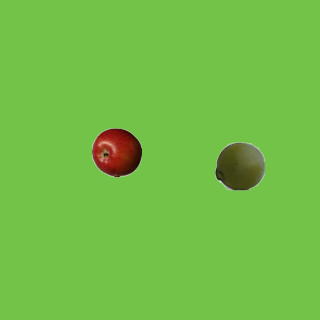Apple Braeburn: (91, 127, 141, 177)
Grape White 4: (214, 140, 264, 190)
